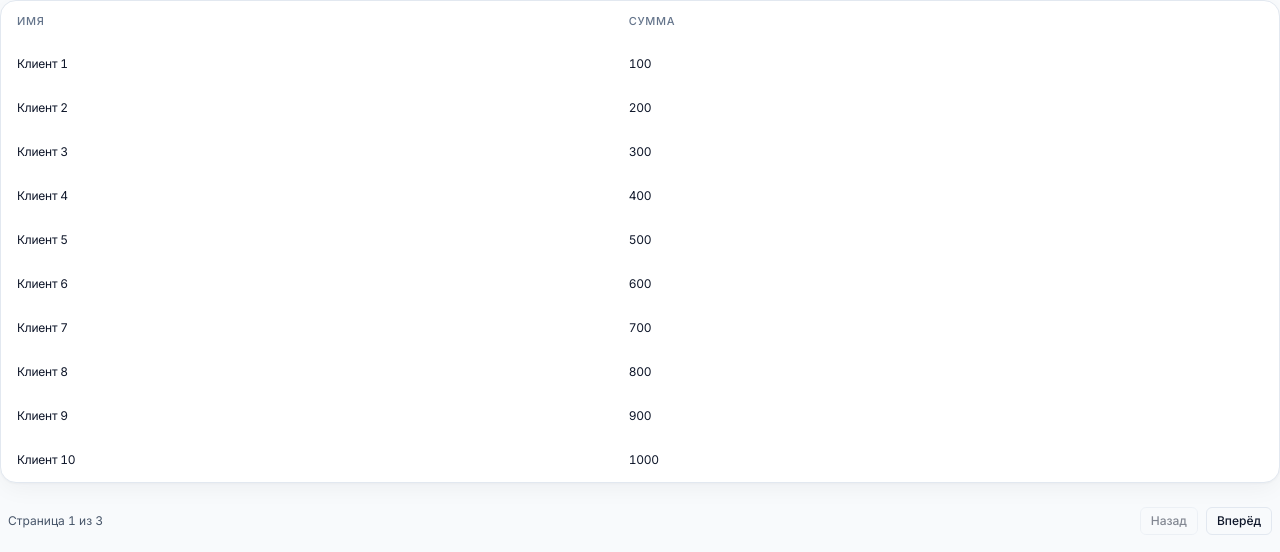
DataTable › handles pagination when data exceeds pageSize
Expected: the text "Страница 1 из 3" is shown, x1=8 y1=513 x2=103 y2=529
Expected: the text "Клиент 1" is shown, x1=1 y1=42 x2=613 y2=86
Step 1. Click the button "Вперёд" → coordinates (1239, 521), box x1=1206 y1=507 x2=1272 y2=535
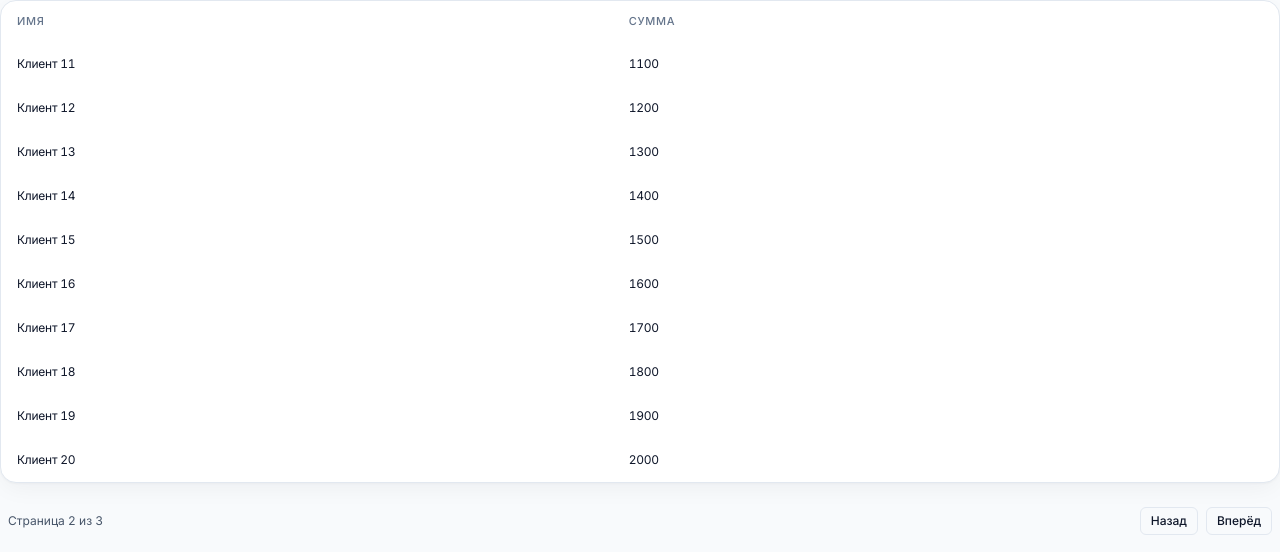
Now the text "Страница 2 из 3" is shown, box x1=8 y1=513 x2=103 y2=529
Now the text "Клиент 11" is shown, box x1=1 y1=42 x2=613 y2=86
